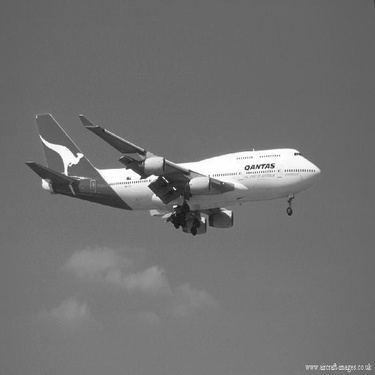airplane: (7, 90, 328, 243)
